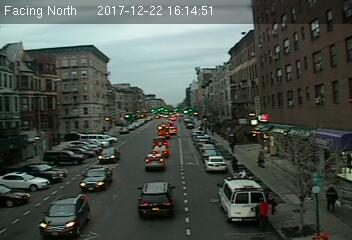car: (39, 194, 92, 240), (135, 182, 176, 218), (79, 167, 114, 193), (143, 152, 167, 171), (204, 155, 227, 173), (96, 147, 121, 163)
pedestrian: (323, 183, 339, 216)
police: (216, 175, 270, 223)
